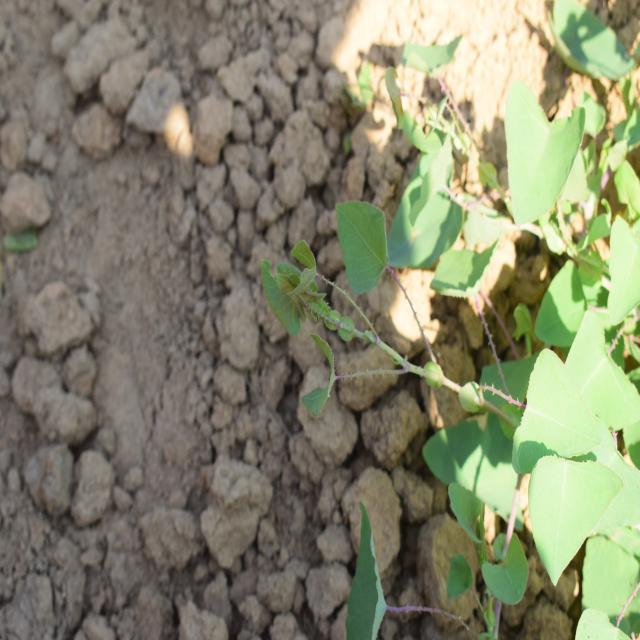Asiatic_Smartweed: (314, 144, 488, 363), (521, 290, 636, 561), (495, 66, 593, 289)
